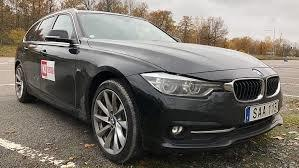license-plates: (248, 100, 280, 122)
